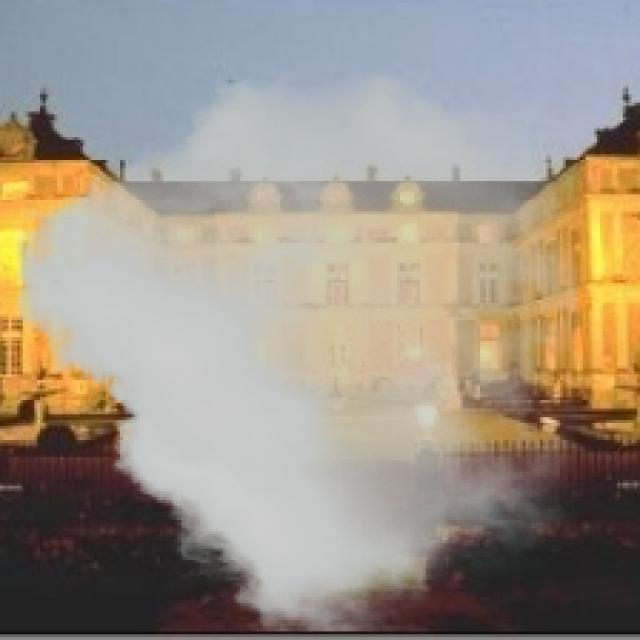smoke: (17, 71, 577, 632)
